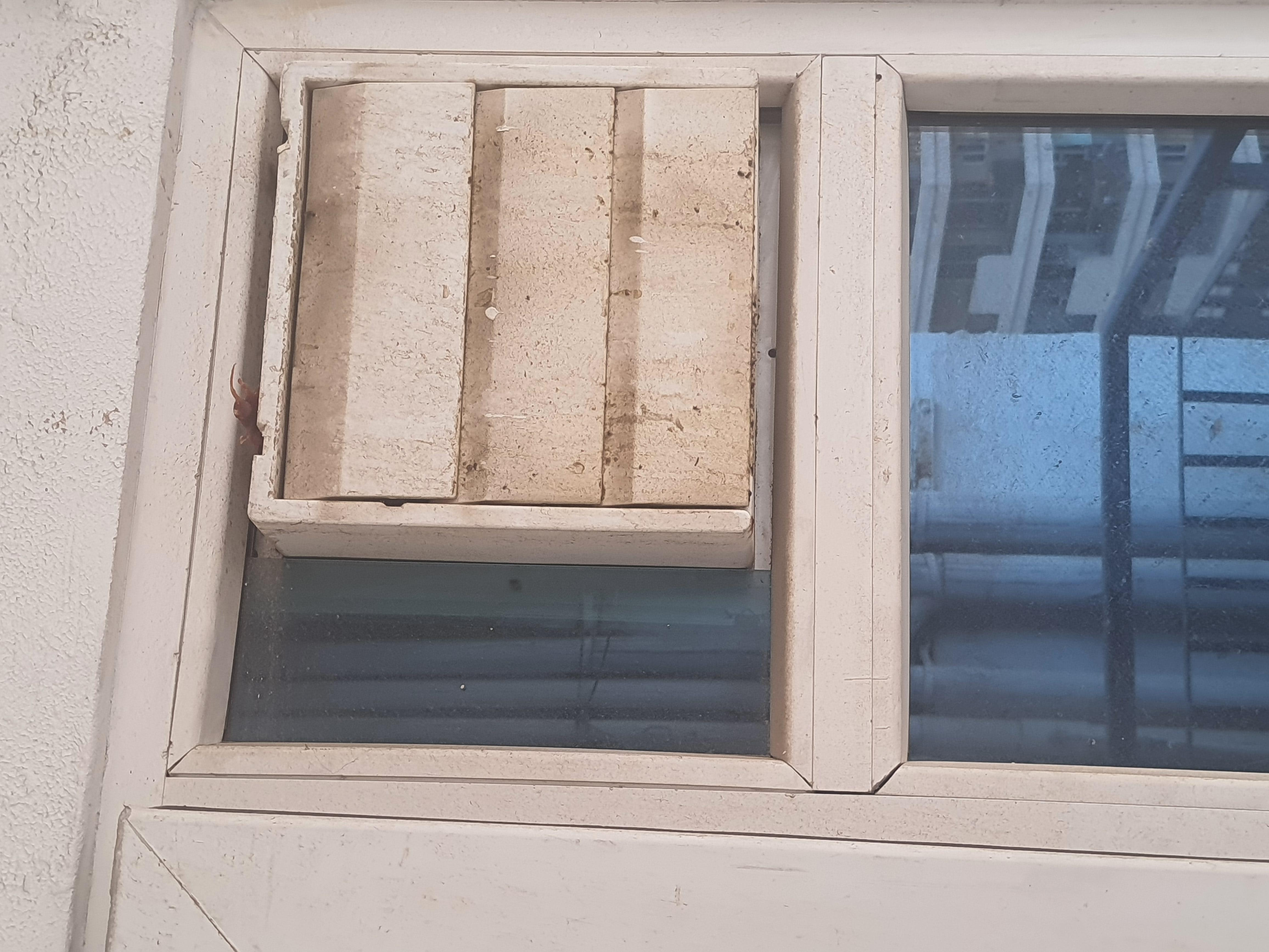cockroach: (675, 165, 801, 202)
